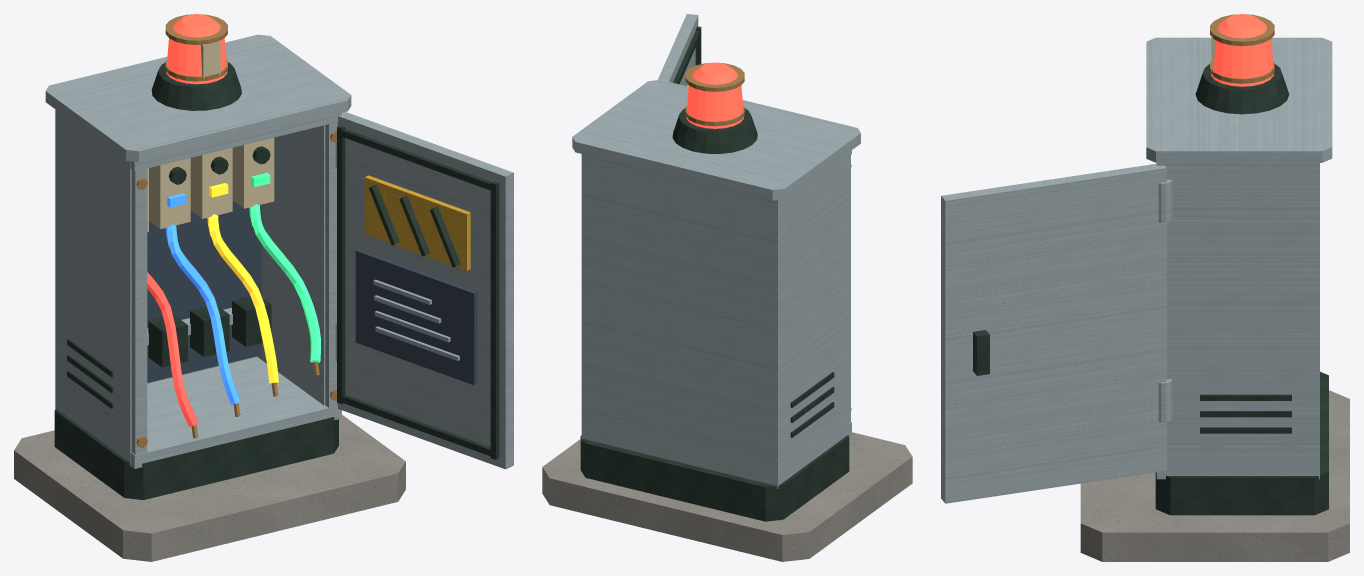
The model's file is alert_signal.glb.
3 renders of one model, left to right at view 1: azimuth 30°, elevation 25°; view 2: azimuth 150°, elevation 25°; view 3: azimuth 270°, elevation 25°, orthographic. The views are drawn at different scales.
Parts seen in each view (by area): view 1: alert_signal.Cabinet, alert_signal.Iron, alert_signal.Alloy, alert_signal.Concrete, alert_signal.Slate, alert_signal.Insulator, alert_signal.Tactile, Rotor, LeadBlue, LeadYellow, LeadGreen, LeadRed (+2 smaller); view 2: alert_signal.Cabinet, alert_signal.Concrete, alert_signal.Alloy, alert_signal.Iron, Rotor, alert_signal.Bronze; view 3: alert_signal.Cabinet, alert_signal.Alloy, alert_signal.Concrete, alert_signal.Iron, Rotor, alert_signal.Bronze.
Boxes of the visible parts, box(x1,y1,x2,y2) form: alert_signal.Cabinet: box(55, 109, 513, 469); alert_signal.Iron: box(54, 62, 499, 499); alert_signal.Alloy: box(45, 34, 459, 455); alert_signal.Concrete: box(14, 415, 405, 561); alert_signal.Slate: box(147, 201, 477, 385); alert_signal.Insulator: box(147, 137, 274, 232); alert_signal.Tactile: box(364, 175, 470, 270); Rotor: box(166, 14, 227, 84); LeadBlue: box(165, 224, 240, 404); LeadYellow: box(207, 214, 278, 383); LeadGreen: box(249, 204, 321, 362); LeadRed: box(147, 272, 198, 426); alert_signal.Cabinet: box(581, 14, 851, 489); alert_signal.Concrete: box(542, 432, 912, 561); alert_signal.Alloy: box(572, 80, 860, 423); alert_signal.Iron: box(580, 26, 849, 521); Rotor: box(686, 62, 743, 128); alert_signal.Bronze: box(685, 63, 851, 410); alert_signal.Cabinet: box(941, 163, 1319, 503); alert_signal.Alloy: box(1146, 37, 1332, 422); alert_signal.Concrete: box(1080, 390, 1349, 561); alert_signal.Iron: box(973, 64, 1328, 515); Rotor: box(1211, 14, 1273, 86); alert_signal.Bronze: box(1210, 14, 1274, 83).
Size of the model in its own units: 2.09 by 2.87 by 2.26.
Materials: 13 (5 with a texture image).
